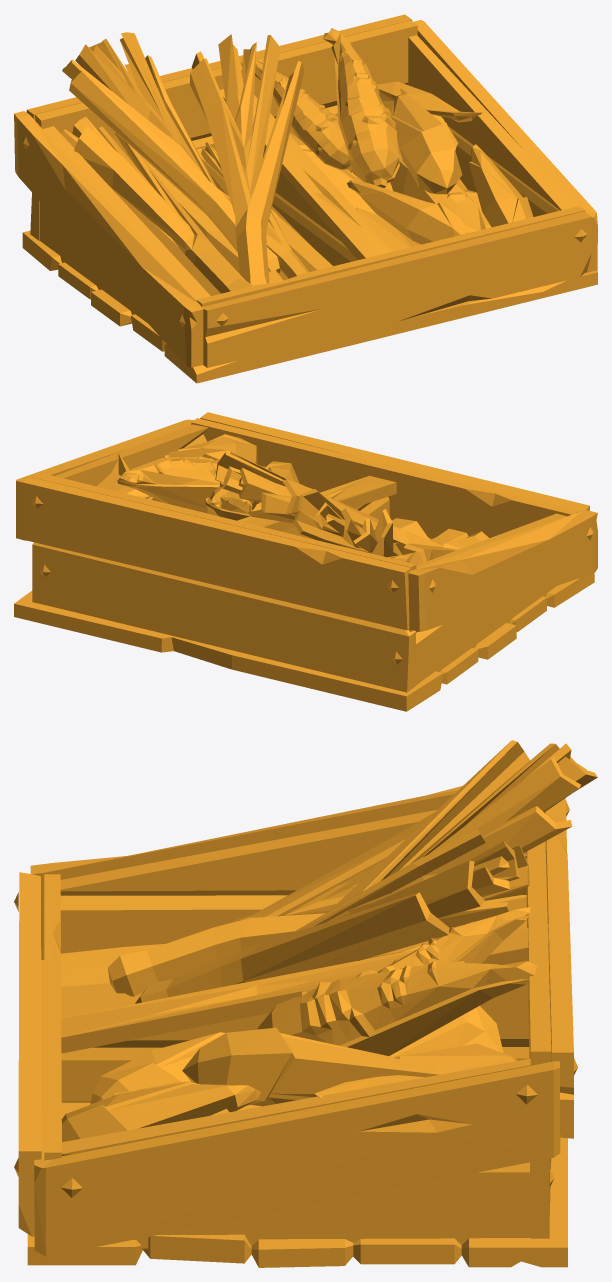
File: SM_Crate_Table_Slanted_Corn_Leek_Fantasy.fbx
3 views of the same model, one above another, from view 1: azimuth 30°, elevation 25°; view 2: azimuth 150°, elevation 25°; view 3: azimuth 270°, elevation 25° (orthographic). The views are drawn at different scales.
Parts seen in each view (by area): view 1: crate-table-slanted-corn-leek-fantasy; view 2: crate-table-slanted-corn-leek-fantasy; view 3: crate-table-slanted-corn-leek-fantasy.
Part boxes in pixels (x1,y1,x2,y2): crate-table-slanted-corn-leek-fantasy: (14,14,597,383); crate-table-slanted-corn-leek-fantasy: (14,412,597,711); crate-table-slanted-corn-leek-fantasy: (14,740,597,1267).
Bounding box in the file's own units: 1.07 × 0.489 × 0.8715.
